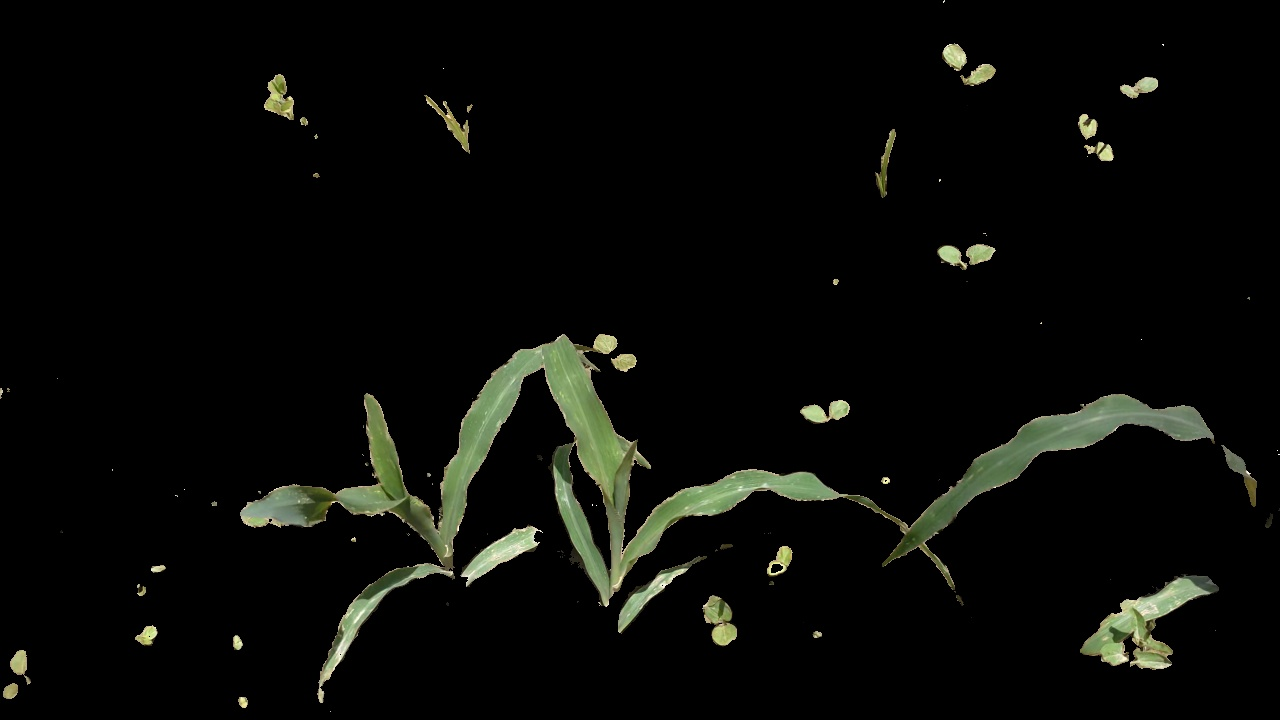crop: (883, 301, 1280, 669), (243, 337, 547, 684), (554, 361, 875, 650)
weed: (409, 88, 482, 156), (935, 26, 1005, 90), (260, 72, 320, 145), (1108, 614, 1180, 672), (695, 591, 746, 650), (873, 126, 905, 201), (1078, 111, 1115, 175), (586, 332, 639, 374), (801, 395, 853, 429), (761, 541, 800, 585), (4, 643, 31, 703), (937, 245, 999, 269), (134, 623, 166, 656), (1125, 75, 1163, 98)
